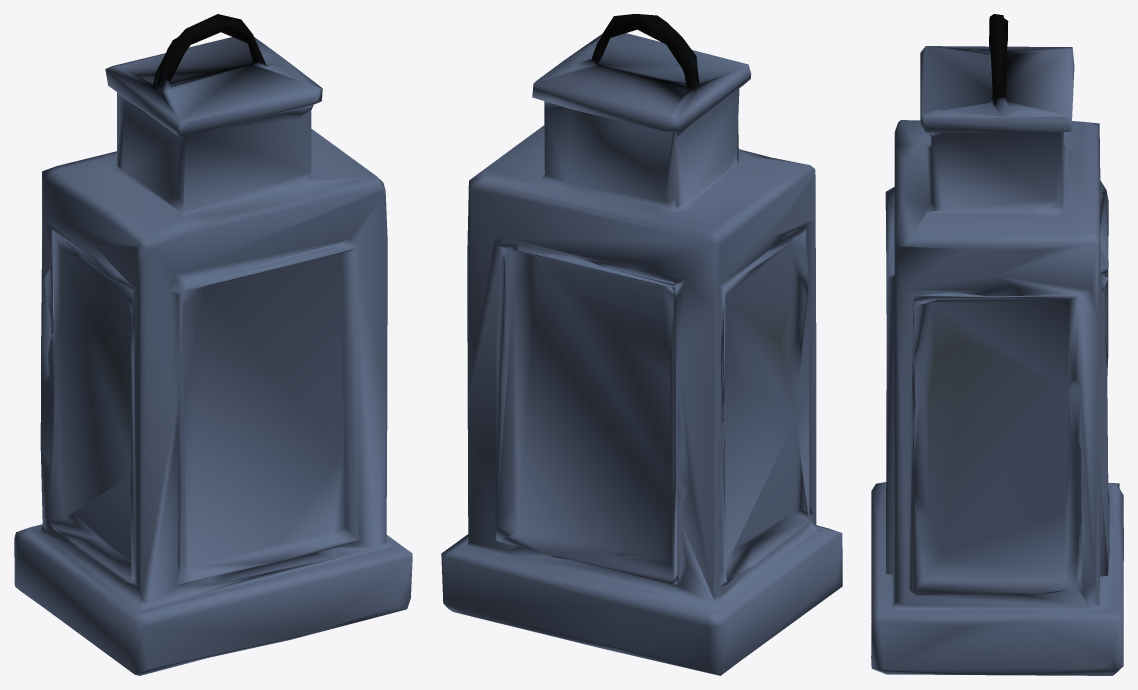
File: gen3d-ice-lantern-lod1.glb
3 renders of one model, left to right at view 1: azimuth 30°, elevation 25°; view 2: azimuth 150°, elevation 25°; view 3: azimuth 270°, elevation 25°, orthographic.
Visible parts, largest first — view 1: part_0; view 2: part_0; view 3: part_0.
Boxes of the visible parts, x1,y1,x2,y2 form: part_0: [14, 14, 412, 675]; part_0: [441, 14, 842, 675]; part_0: [871, 14, 1123, 675].
Bounding box in the file's own units: 0.5026 × 0.9978 × 0.3877.
